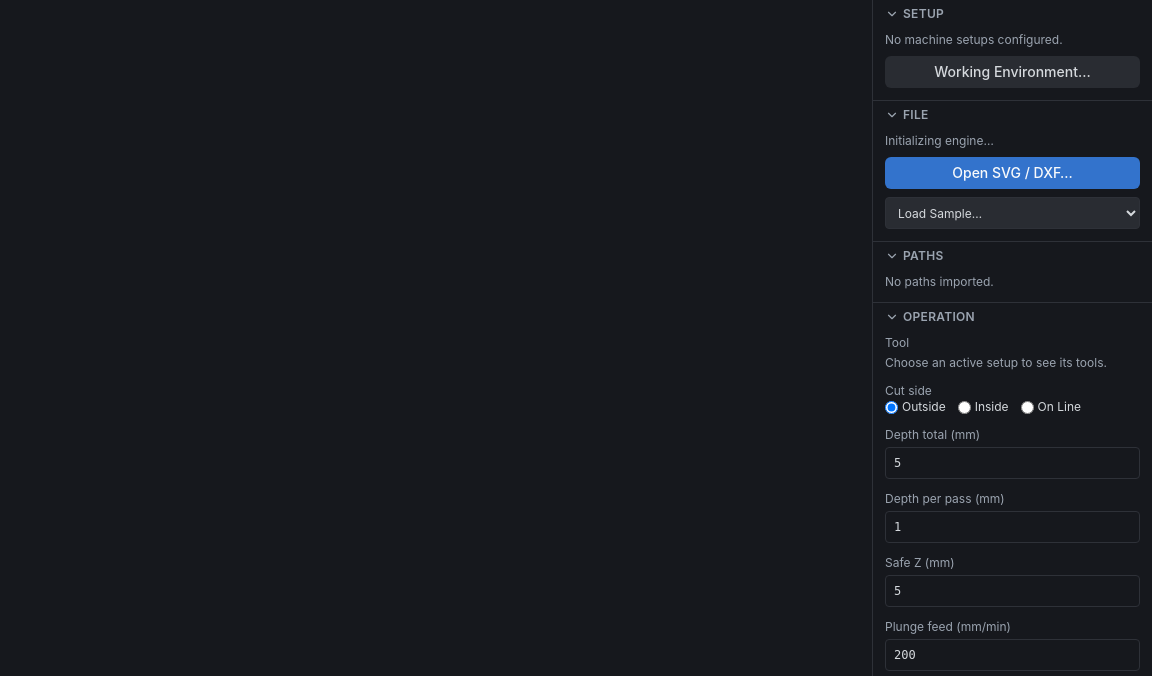
Mode2ProfileMode › Setup section › re-reads the working environment after the modal closes
Expected: the text "No machine setups configured." is shown, [885, 32, 1063, 47]
Click the button "Working Environment…" at (1012, 72), box [885, 56, 1140, 88]
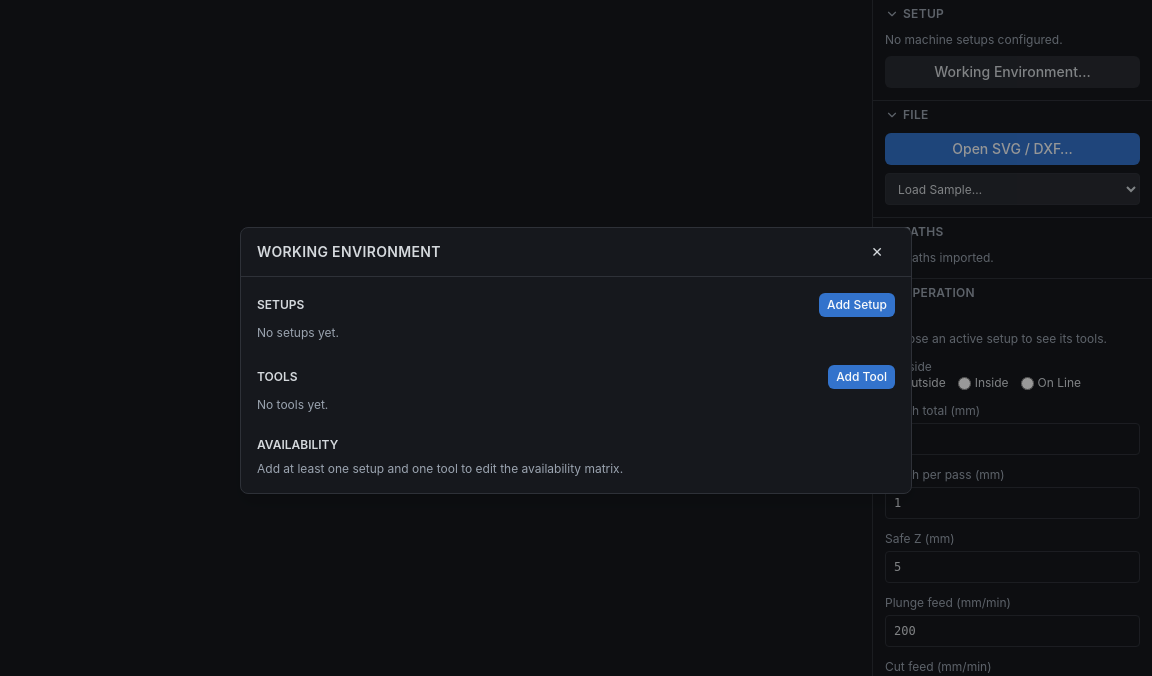
Result: the button "Add Setup" is shown at [819, 292, 895, 316]
// Close the modal — the parent's onClose handler must trigger a refresh.
Click the button named "close" at (877, 252), box [859, 236, 895, 268]
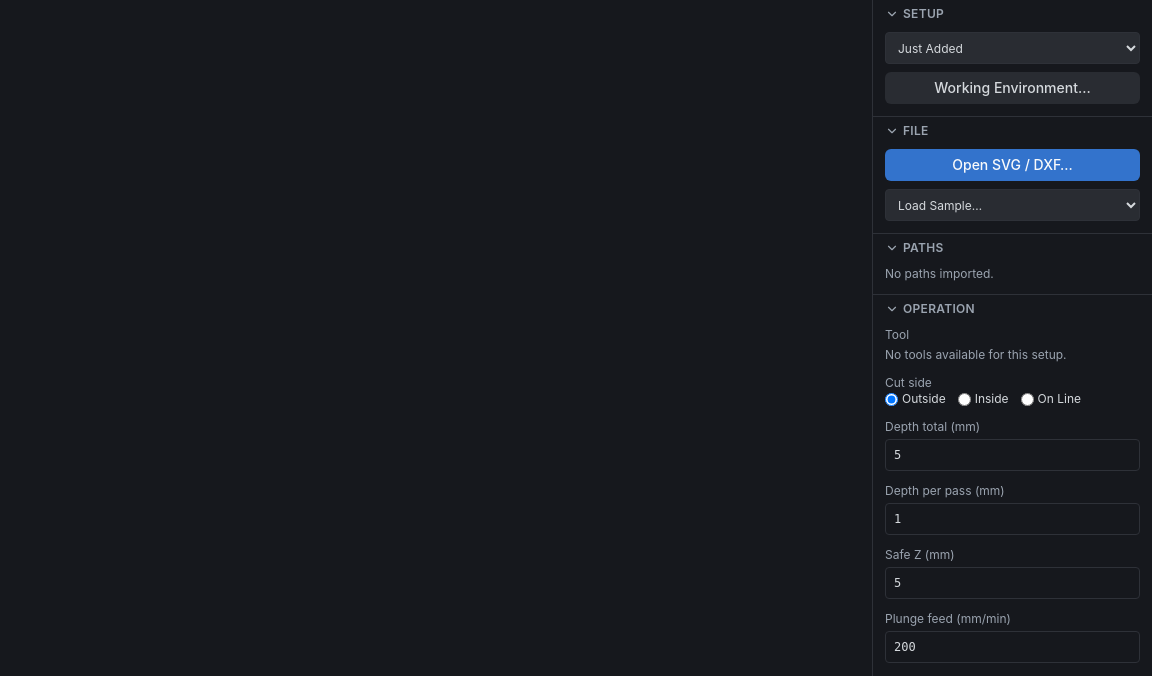
Result: the dropdown named "Active machine setup" shows "Just Added" at [885, 32, 1140, 64]
